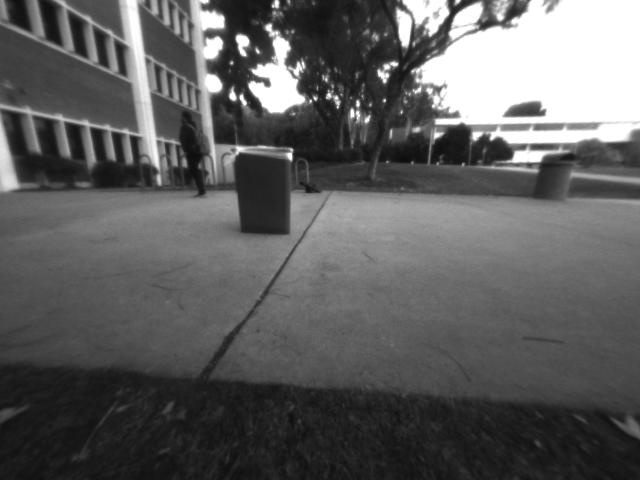trashcan: (228, 137, 299, 241)
